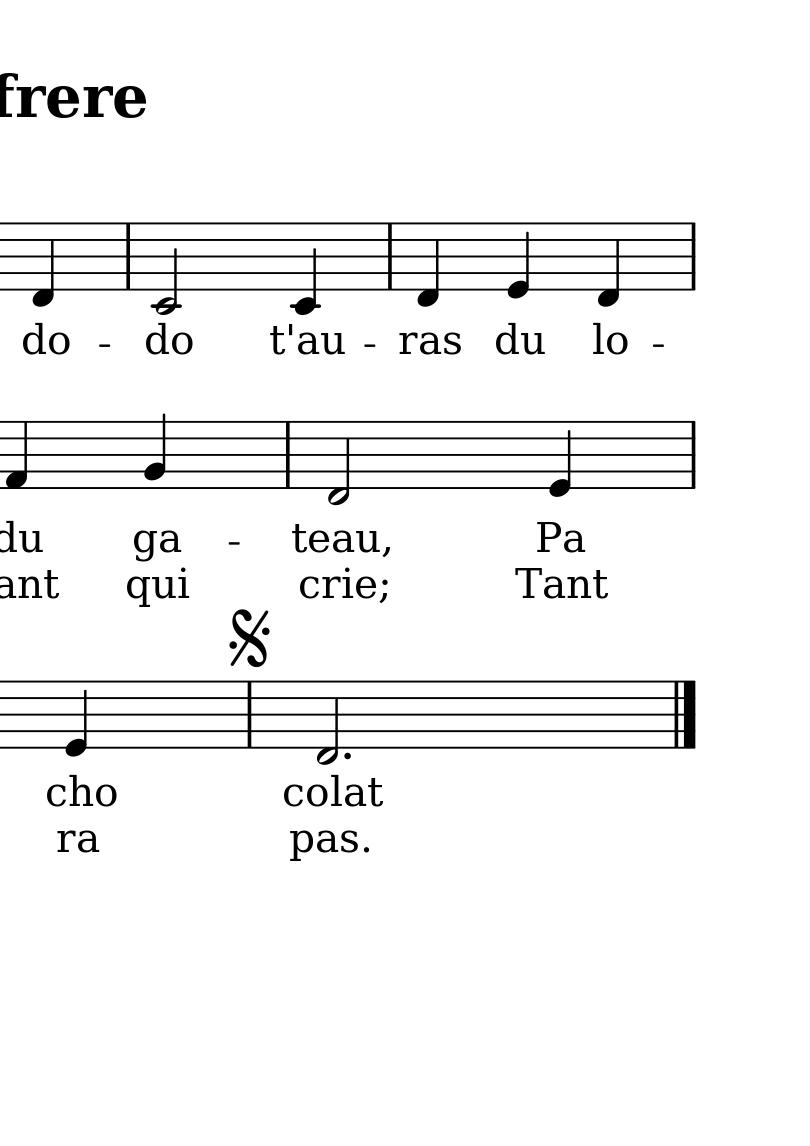2_-1: (314, 680, 342, 765), (325, 419, 352, 507)
2_-2: (151, 219, 180, 318)
4_-1: (29, 220, 56, 309), (595, 218, 621, 309), (415, 222, 441, 309)
4_-2: (290, 221, 319, 316)
4_0: (62, 678, 89, 760), (505, 221, 532, 301), (547, 418, 573, 500)
4_1: (4, 419, 31, 491)
4_2: (142, 412, 168, 491)
Final_barline: (669, 679, 698, 748)
Segno: (226, 608, 274, 667)
Single_barline: (680, 420, 703, 487), (278, 421, 299, 489), (240, 681, 259, 749), (120, 224, 137, 290), (686, 225, 702, 292)
dot: (342, 750, 352, 761)
